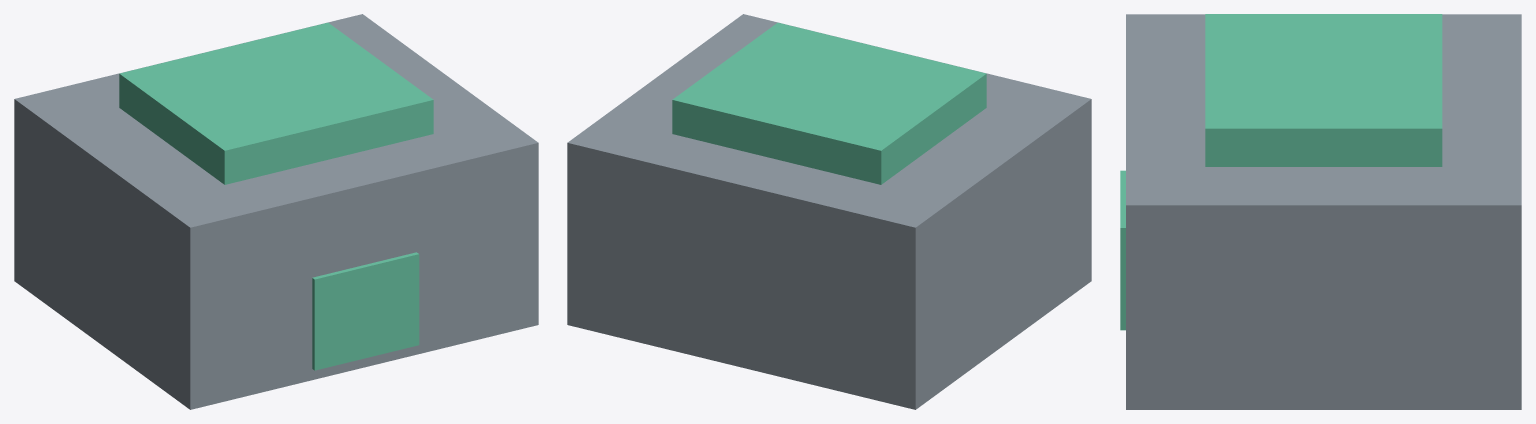
File: CO_MCV_MobileNode_LOD0.glb
3 views of the same model, side by side, from view 1: azimuth 30°, elevation 25°; view 2: azimuth 150°, elevation 25°; view 3: azimuth 270°, elevation 25° (orthographic). The views are drawn at different scales.
Visible parts, largest first — view 1: EntranceGate; view 2: EntranceGate; view 3: EntranceGate.
Part boxes in pixels (bbox=[...]): EntranceGate: bbox=[14, 14, 538, 409]; EntranceGate: bbox=[567, 14, 1091, 409]; EntranceGate: bbox=[1120, 14, 1521, 409].
Bounding box in the file's own units: 800 × 475 × 710.
